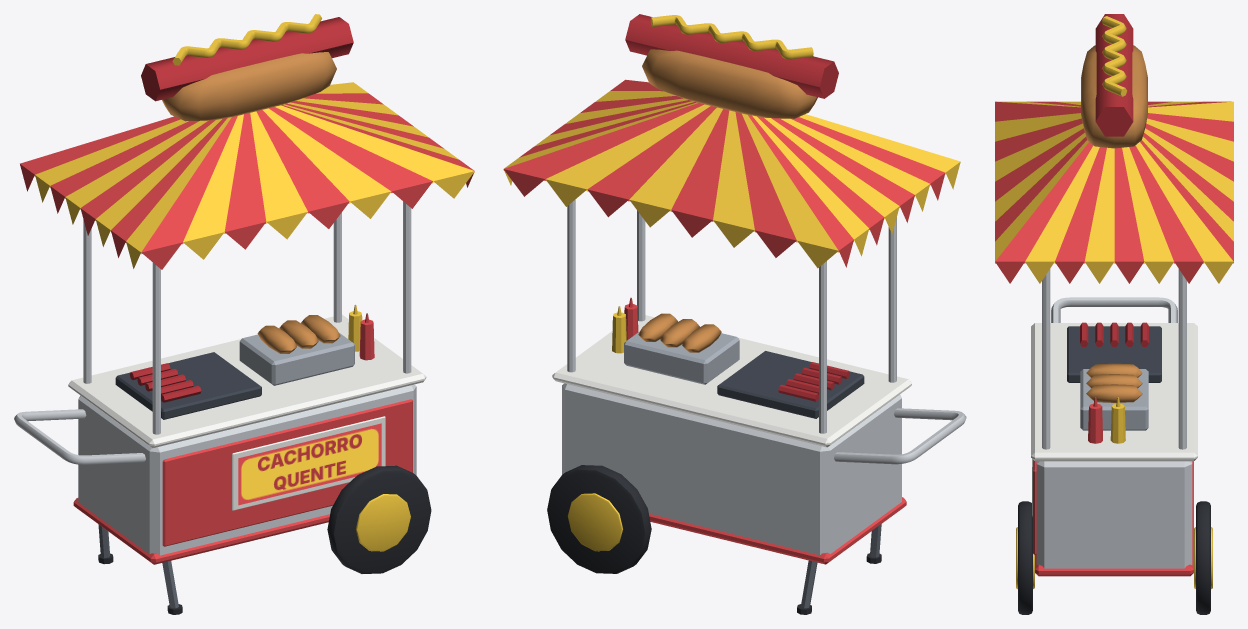
Rendered from carrinho_cachorro_quente.glb.
3 renders of one model, left to right at view 1: azimuth 30°, elevation 25°; view 2: azimuth 150°, elevation 25°; view 3: azimuth 270°, elevation 25°, orthographic. The views are drawn at different scales.
Parts seen in each view (by area): view 1: carrinho_cachorro_quente; view 2: carrinho_cachorro_quente; view 3: carrinho_cachorro_quente.
Part boxes in pixels (left/top/right/bottom): carrinho_cachorro_quente: left=14, top=14, right=474, bottom=614; carrinho_cachorro_quente: left=503, top=14, right=966, bottom=614; carrinho_cachorro_quente: left=995, top=14, right=1233, bottom=614.
Size of the model in its own units: 2.24 by 3 by 1.26.
3 materials, 2 textured.
